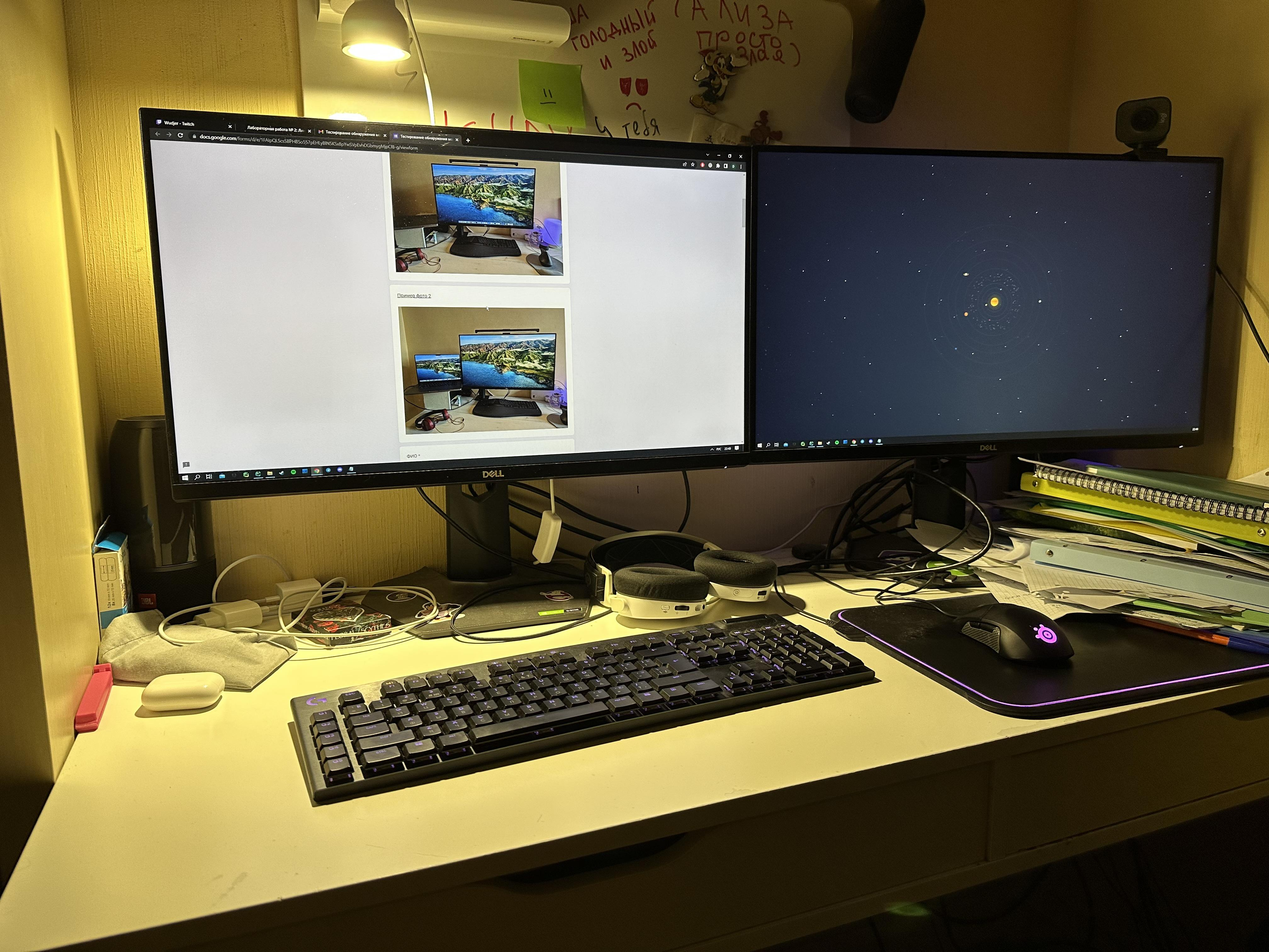monitor: (137, 102, 760, 505), (713, 137, 1234, 469)
